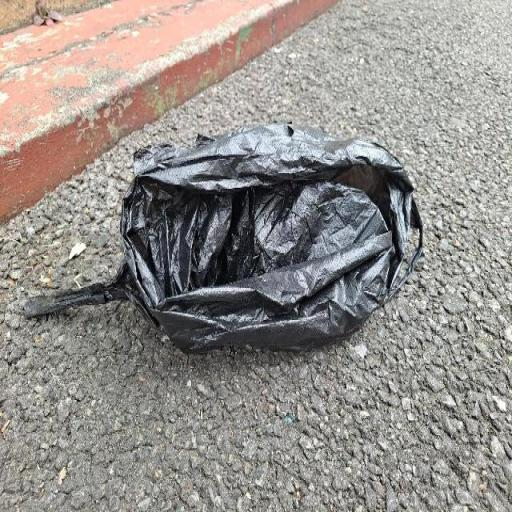plastic-bag: (21, 112, 425, 360)
